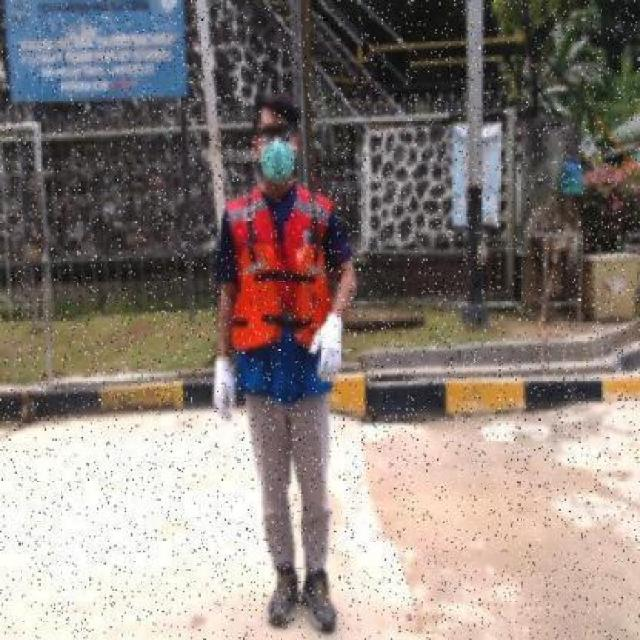Boots: (264, 562, 302, 630), (302, 567, 340, 635)
Gloves: (308, 305, 343, 389), (210, 355, 238, 422)
Mask: (258, 138, 297, 184)
Protective Glasses: (256, 125, 299, 142)
Vest: (231, 243, 334, 352)
